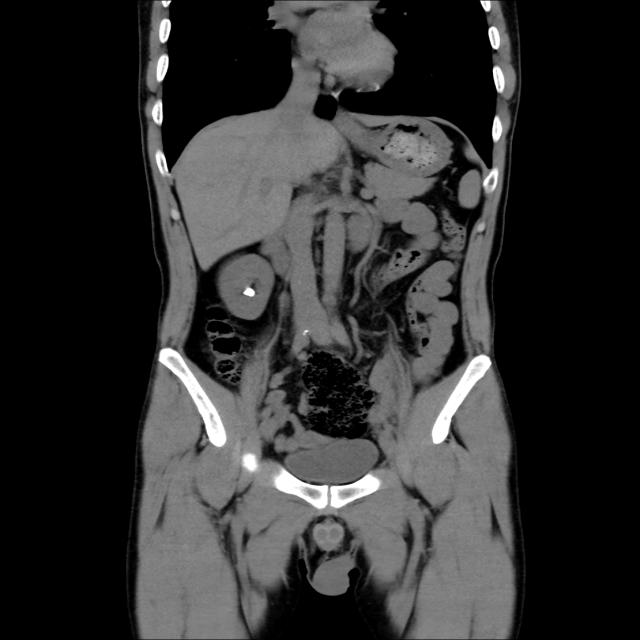kidneystone: (242, 286, 256, 298)
